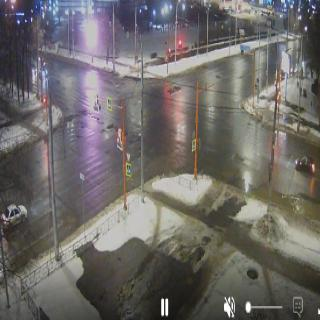small-vehicle: (0, 202, 28, 230), (295, 154, 315, 179), (37, 65, 48, 84), (28, 62, 37, 79)
